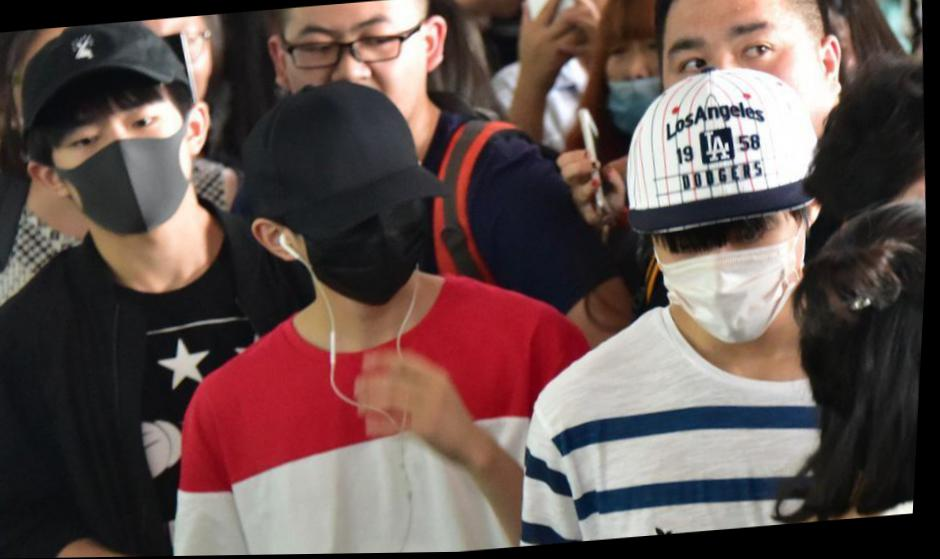NONE: (277, 1, 429, 152)
OK: (655, 16, 831, 187), (55, 84, 203, 241), (647, 216, 807, 353), (297, 182, 431, 315)
WRONG: (595, 26, 698, 144)
